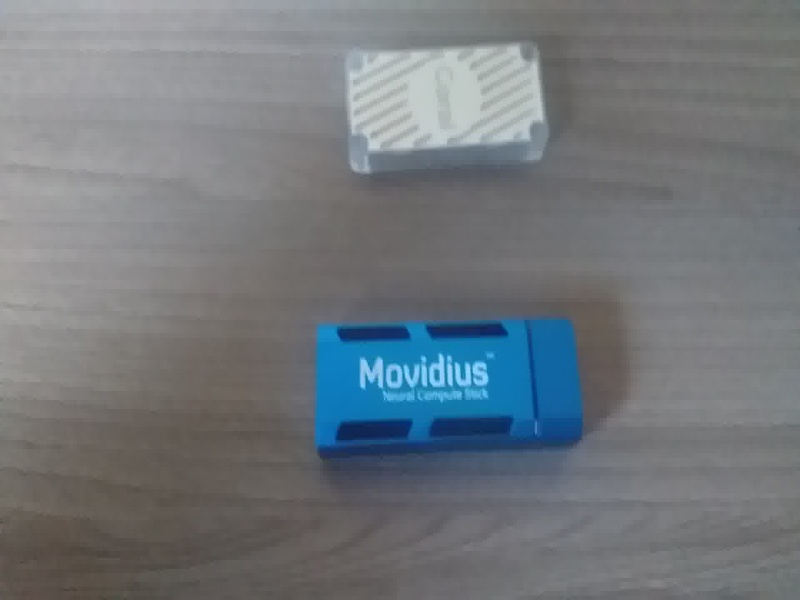coral: (331, 35, 555, 195)
movidius: (302, 308, 602, 466)
